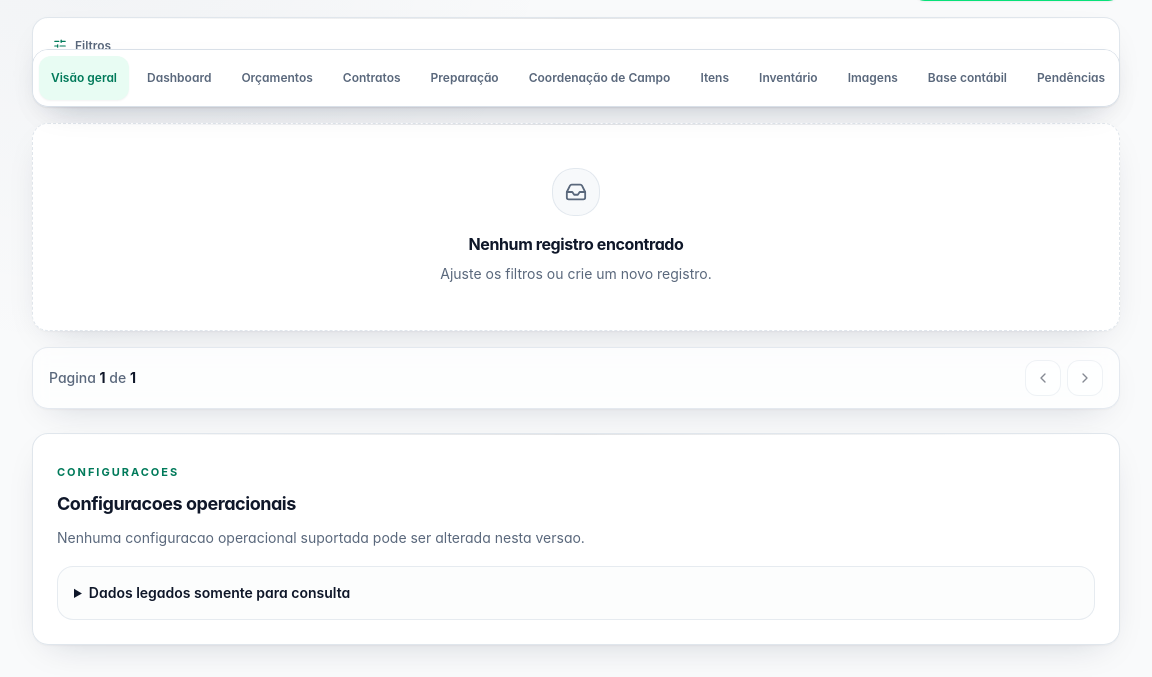
Scenario: ProjectSummaryPage workspace › nao inventa configuracoes editaveis e preserva dados legados para consulta
The width and height of the screenshot is (1152, 677).
(page scrolled)
Expected: the text "Nenhuma configuracao operacional suportada" is shown, [57, 528, 585, 546]
Click the heading "Dados legados somente para consulta" at (220, 592), box [89, 584, 350, 600]
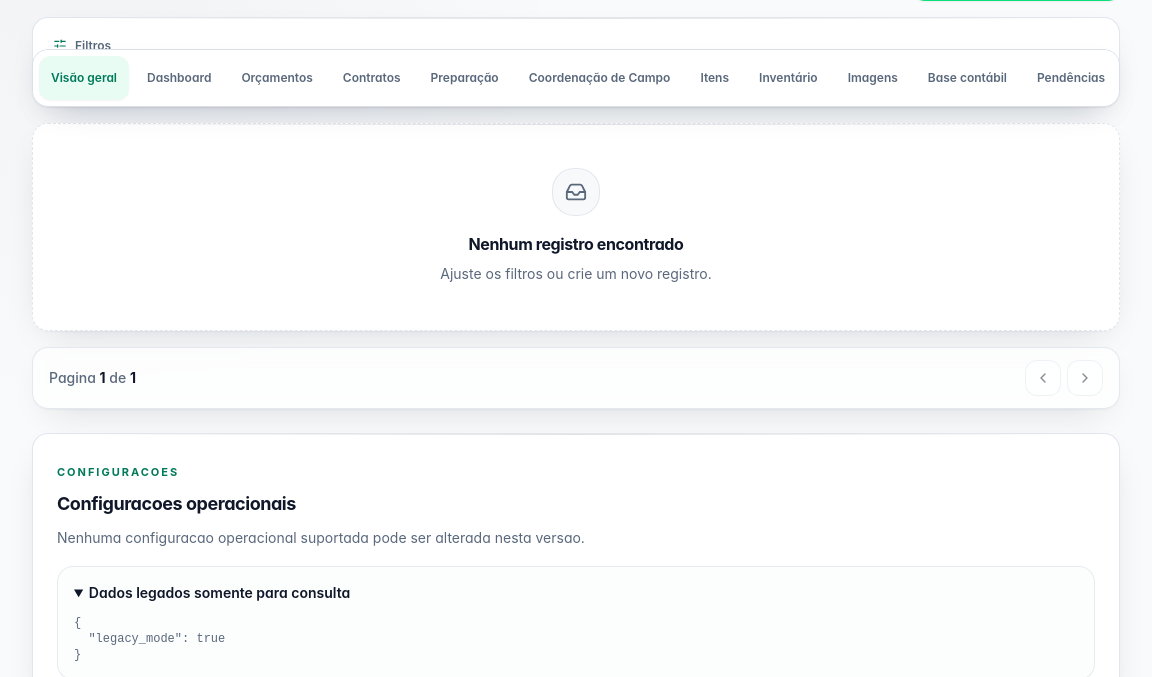
Result: the text "{ \"legacy_mode\": true }" is shown at [74, 616, 225, 662]
